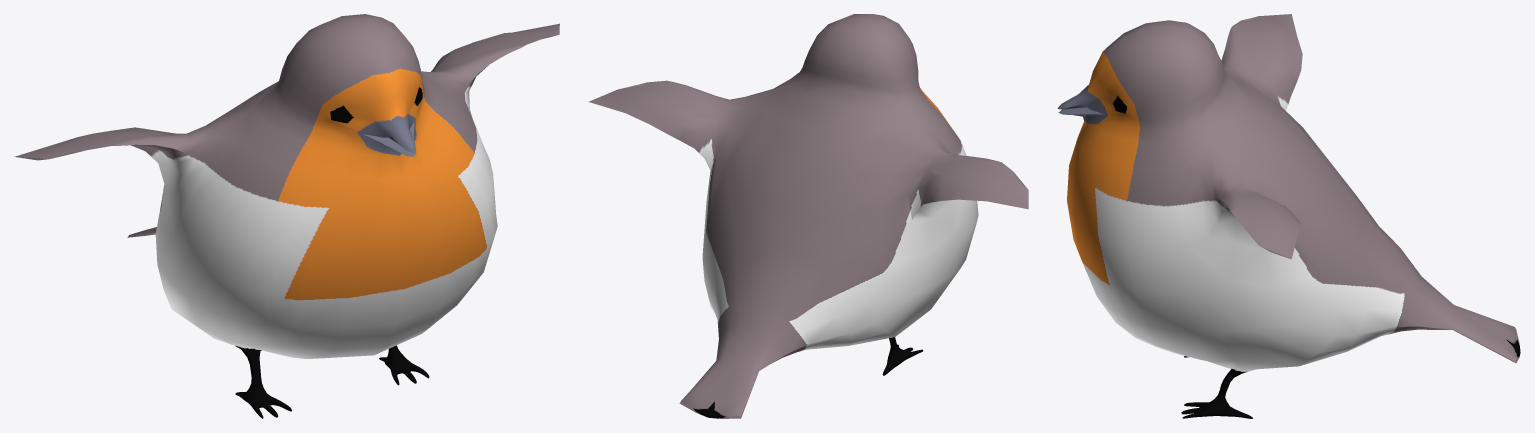
File: Bird_Mesh.fbx
3 renders of one model, left to right at view 1: azimuth 30°, elevation 25°; view 2: azimuth 150°, elevation 25°; view 3: azimuth 270°, elevation 25°, orthographic. The views are drawn at different scales.
Visible parts, largest first — view 1: Bird; view 2: Bird; view 3: Bird.
Part boxes in pixels (box(x1,y1,x2,y2)): Bird: box(14, 14, 559, 418); Bird: box(588, 14, 1028, 418); Bird: box(1057, 14, 1520, 418).
Size of what is drawn, in the model's own units: 146 by 100 by 117.
